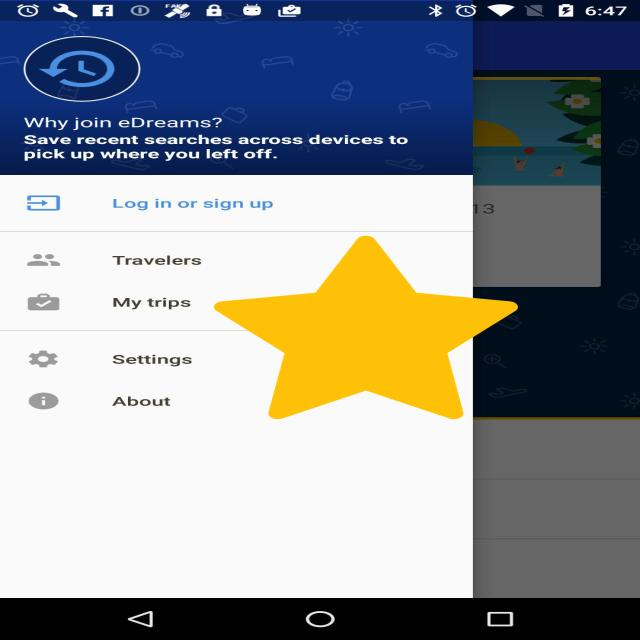forced continuity: (214, 236, 518, 419)
